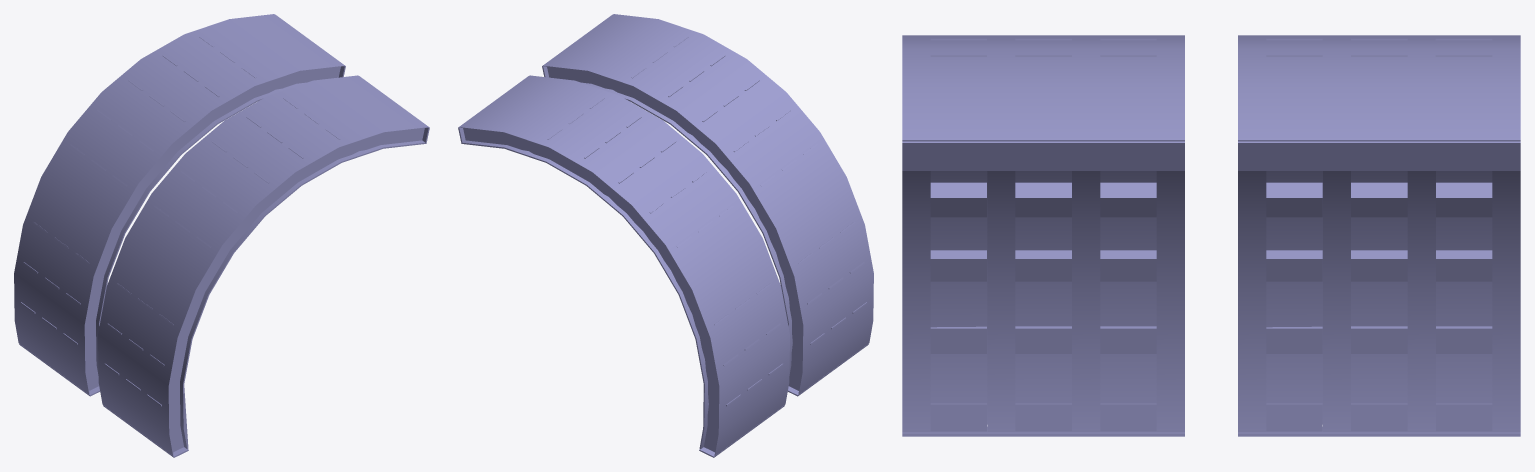
The model's file is frame.glb.
3 views of the same model, side by side, from view 1: azimuth 30°, elevation 25°; view 2: azimuth 150°, elevation 25°; view 3: azimuth 270°, elevation 25° (orthographic). The views are drawn at different scales.
Visible parts, largest first — view 1: supportBottom_3.001; view 2: supportBottom_3.001; view 3: supportBottom_3.001.
Boxes of the visible parts, x1=… form: supportBottom_3.001: x1=14, y1=14, x2=429, y2=457; supportBottom_3.001: x1=458, y1=14, x2=873, y2=457; supportBottom_3.001: x1=902, y1=35, x2=1520, y2=436.
Bounding box in the file's own units: 652 × 653 × 666.
